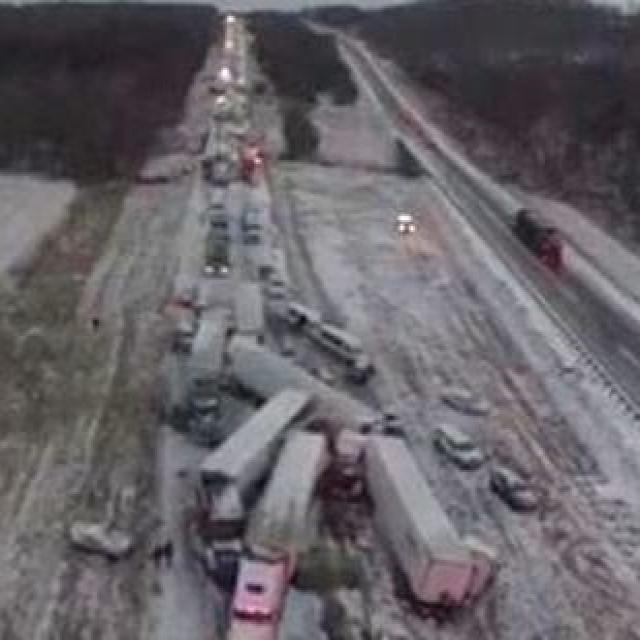traffic_incident: (184, 298, 520, 624)
